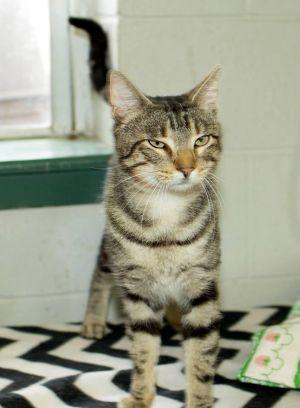bengal: (98, 62, 236, 206)
